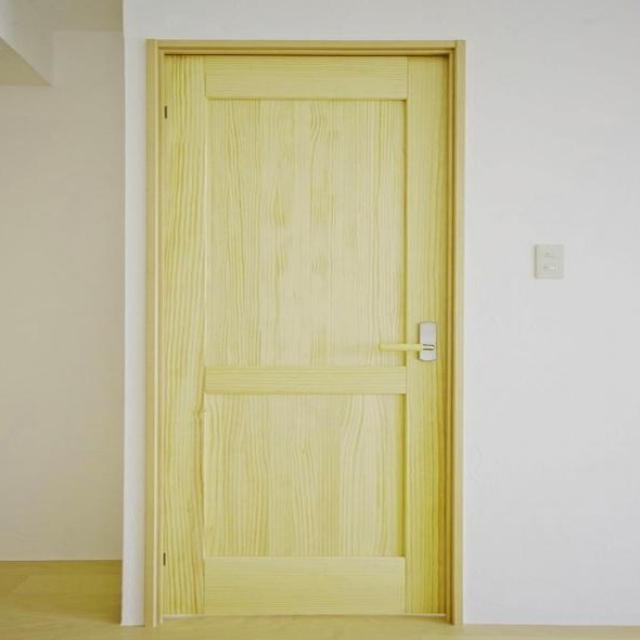door: (145, 40, 457, 624)
